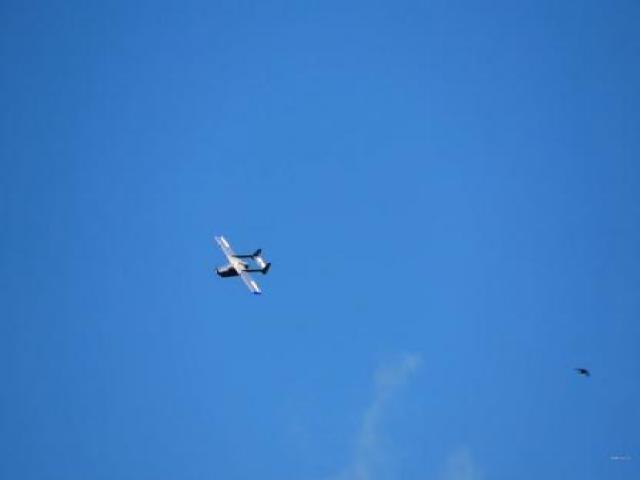uav: (206, 226, 274, 297)
